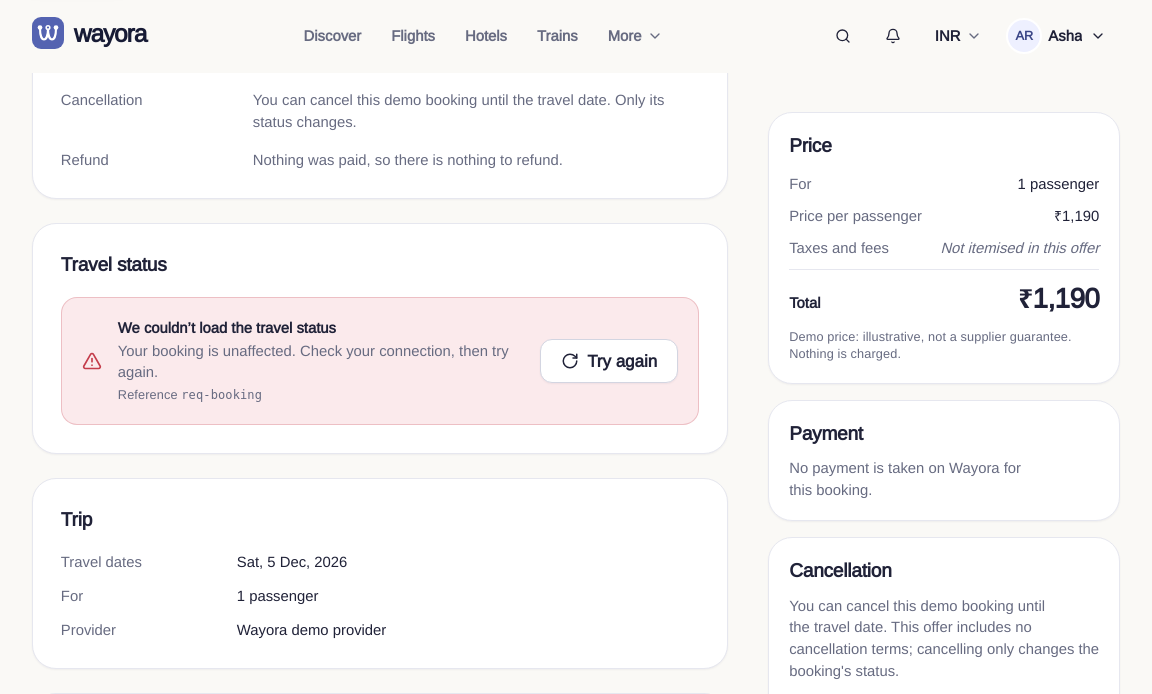
Test: trip details: travel status › a status error leaves the booking usable and can be retried
The width and height of the screenshot is (1152, 694).
(page scrolled)
Check: the text "We couldn’t load the travel status" is shown, box [118,318,336,336]
Click the button "Try again" at point(609, 361), box [540,339,678,383]
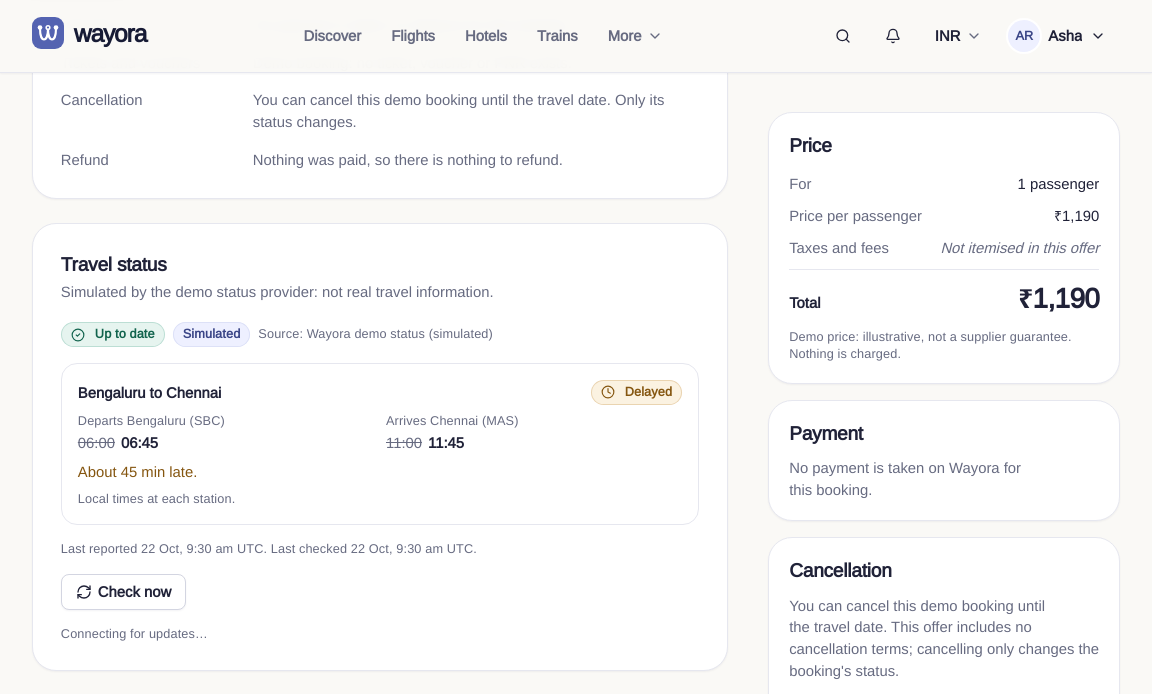
Check: the text "Up to date" is shown, box [61,322,165,347]
